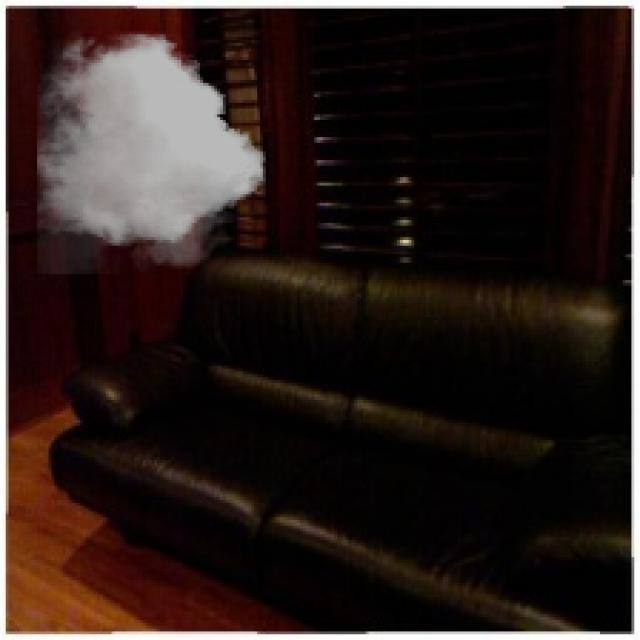Smoke: (37, 28, 266, 274)
